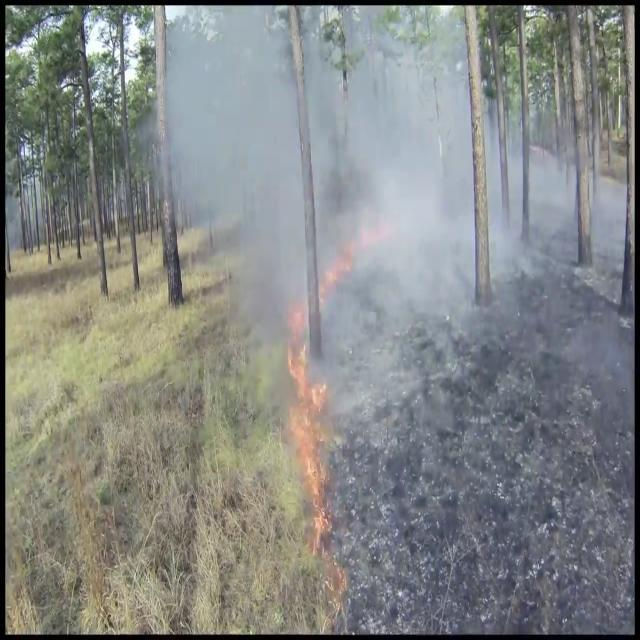Fire: (280, 324, 352, 622)
Smoke: (149, 0, 603, 349)
